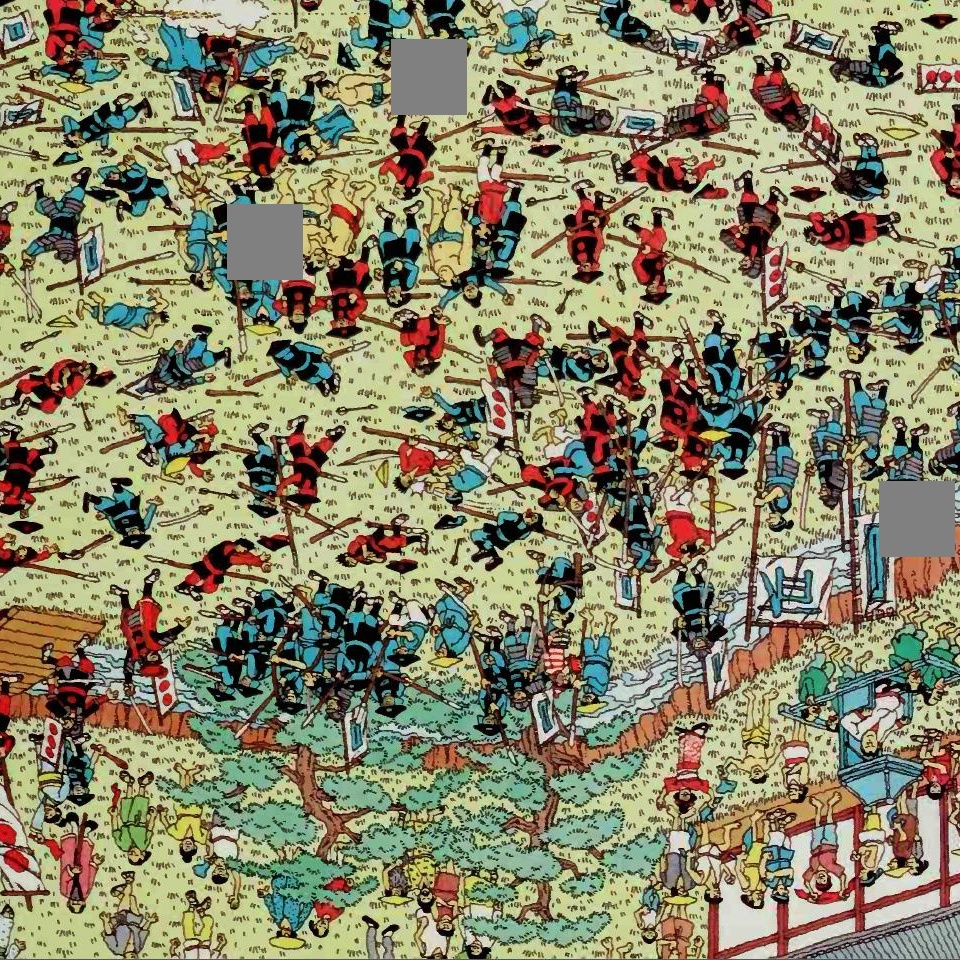waldo: (542, 642, 572, 699)
